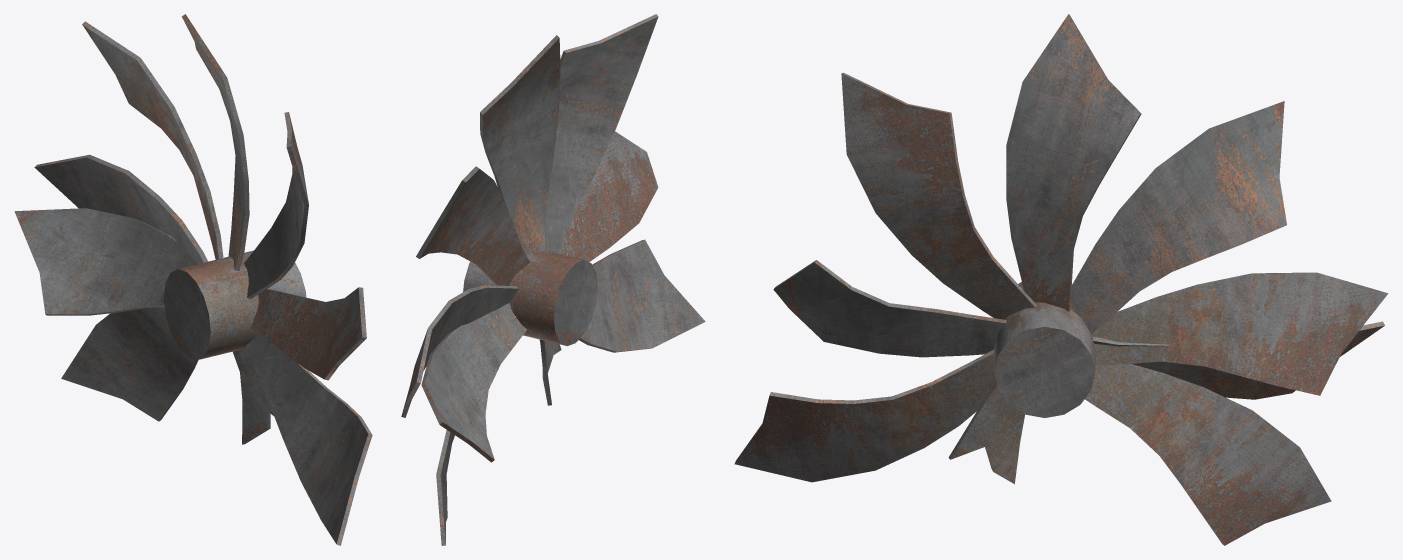
The model's file is BrokenFan02.FBX.
3 renders of one model, left to right at view 1: azimuth 30°, elevation 25°; view 2: azimuth 150°, elevation 25°; view 3: azimuth 270°, elevation 25°, orthographic. The views are drawn at different scales.
Visible parts, largest first — view 1: BrokenFans02, BrokenFans02Center; view 2: BrokenFans02, BrokenFans02Center; view 3: BrokenFans02, BrokenFans02Center.
Part boxes in pixels (x1,y1,x2,y2): BrokenFans02: [14, 14, 372, 545]; BrokenFans02Center: [164, 250, 306, 360]; BrokenFans02: [401, 14, 705, 545]; BrokenFans02Center: [463, 250, 597, 346]; BrokenFans02: [734, 14, 1388, 545]; BrokenFans02Center: [994, 282, 1095, 417].
Size of the model in its own units: 61.52 by 259 by 222.
